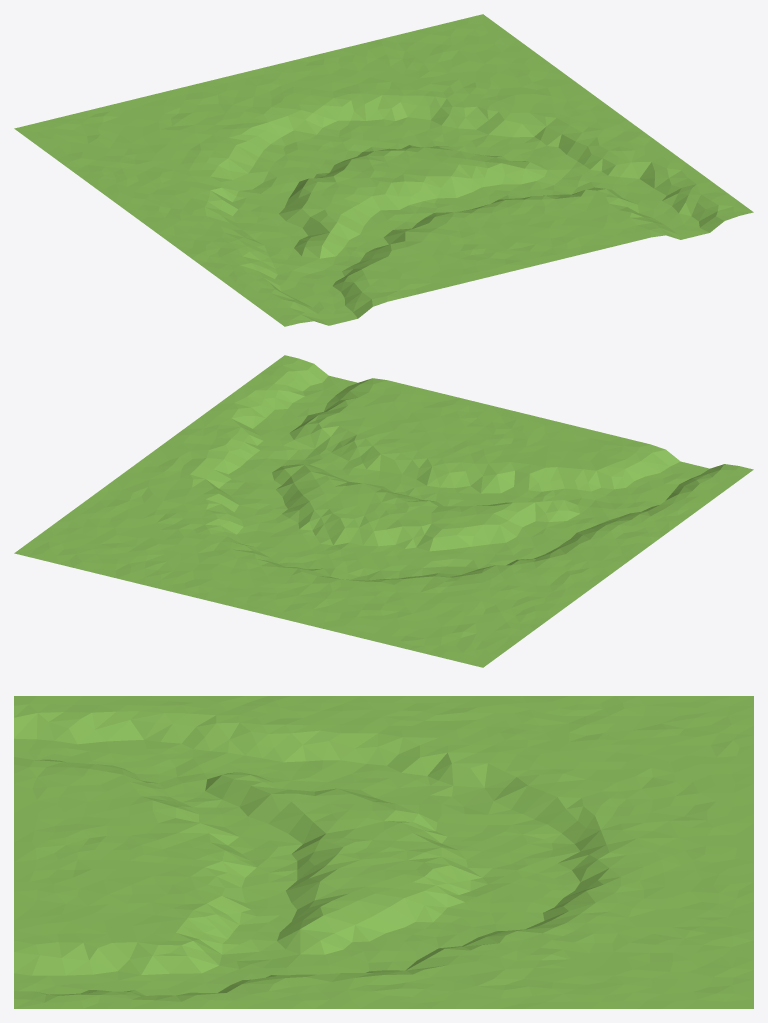
File: MT_River_L_d_02_LOD.fbx
The picture shows the model from 3 angles, top to bottom: view 1: azimuth 30°, elevation 25°; view 2: azimuth 150°, elevation 25°; view 3: azimuth 270°, elevation 25°; orthographic projection. The views are drawn at different scales.
Parts seen in each view (by area): view 1: MT_River_L_d_02_LOD0; view 2: MT_River_L_d_02_LOD0; view 3: MT_River_L_d_02_LOD0.
Boxes of the visible parts, x1=… form: MT_River_L_d_02_LOD0: x1=14, y1=14, x2=753, y2=326; MT_River_L_d_02_LOD0: x1=14, y1=355, x2=753, y2=667; MT_River_L_d_02_LOD0: x1=14, y1=696, x2=753, y2=1008.
Size of what is drawn, in the model's own units: 10000 by 260 by 10000.
